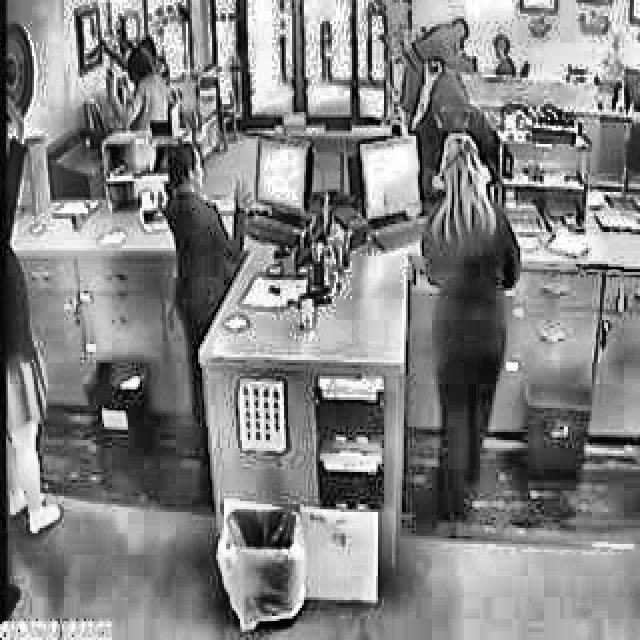robbery: (399, 14, 505, 194), (158, 139, 259, 263), (93, 21, 182, 132)
